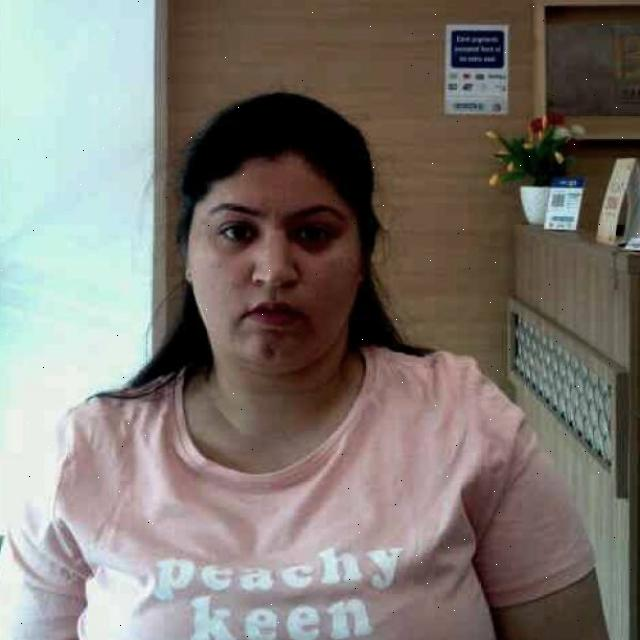puffy_eyes: (291, 239, 327, 256)
